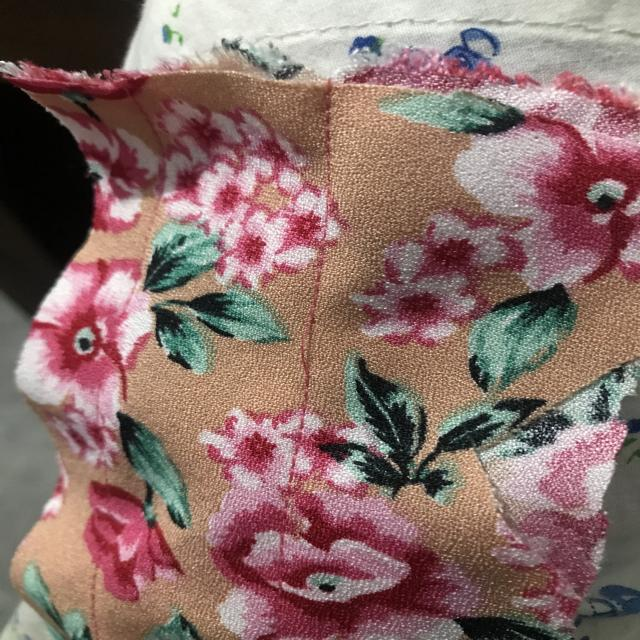skip: (290, 297, 332, 387)
